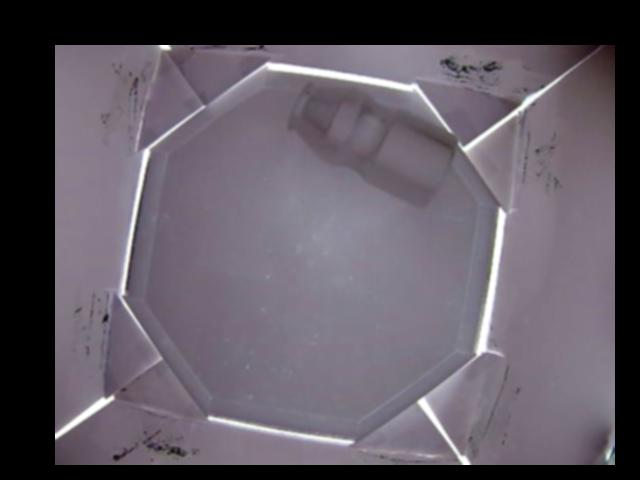Bottle: (286, 81, 458, 215)
